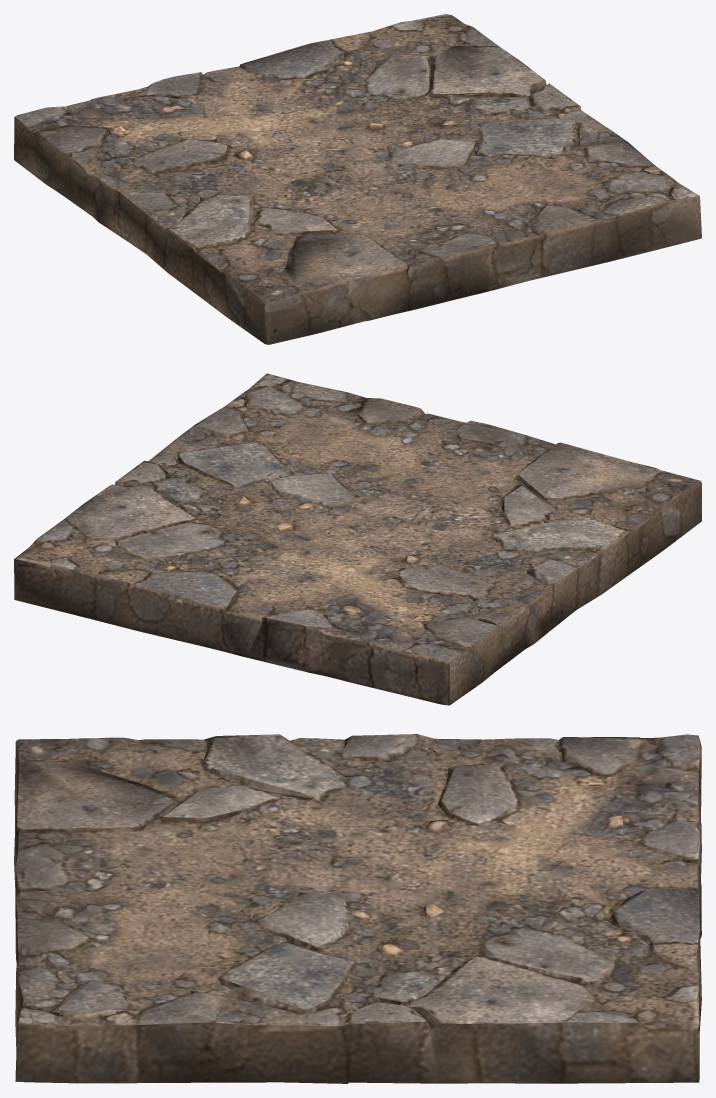
3 renders of one model, top to bottom at view 1: azimuth 30°, elevation 25°; view 2: azimuth 150°, elevation 25°; view 3: azimuth 270°, elevation 25°, orthographic. The views are drawn at different scales.
Parts seen in each view (by area): view 1: geometry_0; view 2: geometry_0; view 3: geometry_0.
Boxes of the visible parts, box(x1,y1,x2,y2) form: geometry_0: box(14, 14, 701, 344); geometry_0: box(14, 373, 701, 705); geometry_0: box(14, 734, 701, 1083).
Size of the model in its own units: 0.9945 by 0.1032 by 0.9989.
Materials: 1 (1 with a texture image).
